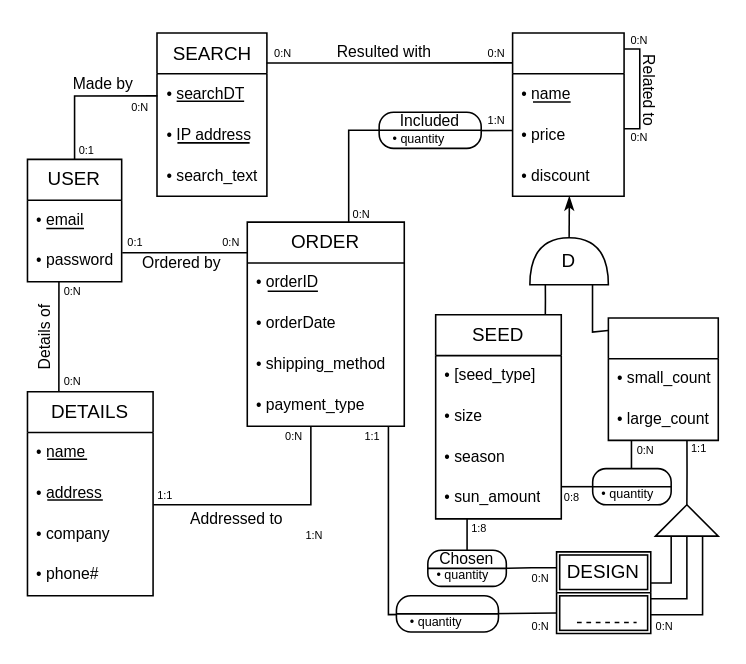
The diagram is 746 pixels wide and 664 high, and some of its shapes have lost their labels. Each missing label, with the box of its shape:
Designed for: (395, 594, 498, 632)
GARDEN: (607, 316, 718, 440)
Planted: (591, 467, 671, 505)
PRODUCT: (511, 31, 624, 196)
• designID: (558, 594, 648, 630)
